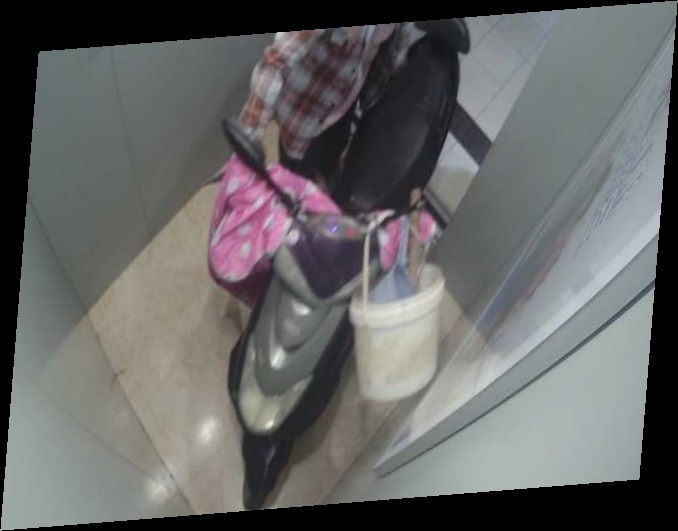bucket: (333, 205, 474, 405)
electromobile: (217, 24, 475, 498)
